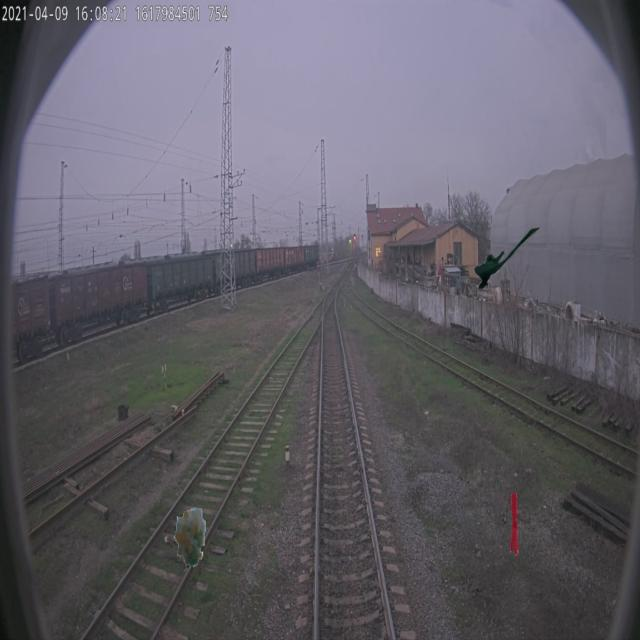balloon: (174, 503, 206, 567)
floating object: (474, 224, 542, 288), (510, 492, 519, 556)
